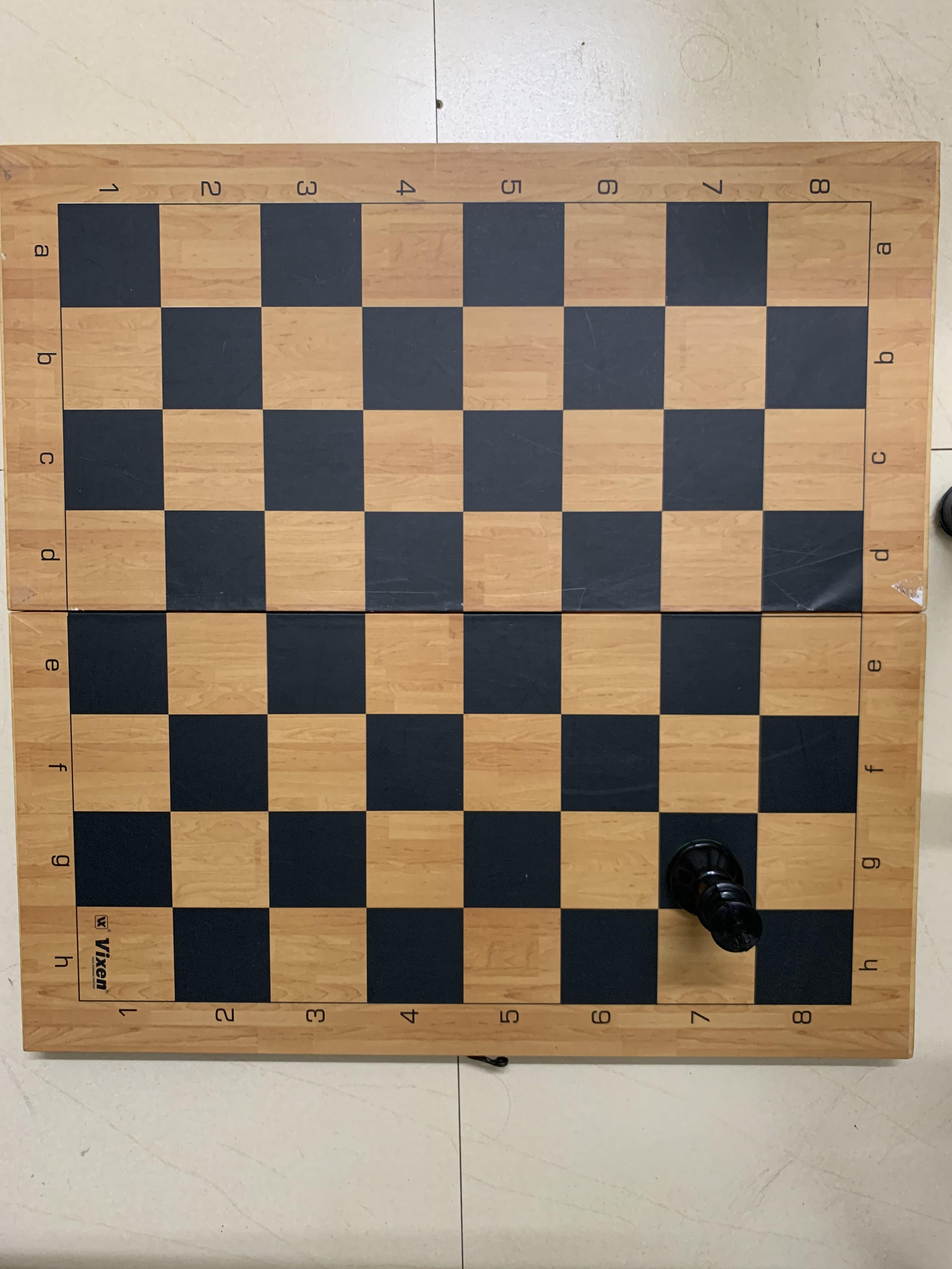black_king: (660, 811, 762, 966)
